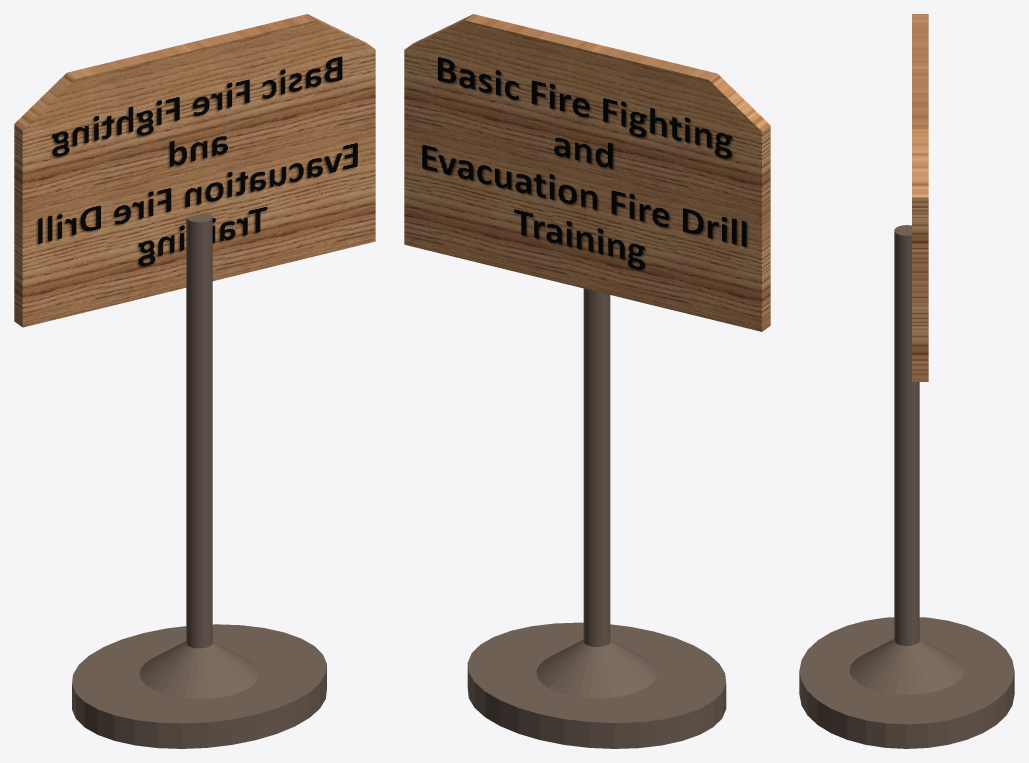
File: training.fbx
The picture shows the model from 3 angles, left to right: view 1: azimuth 30°, elevation 25°; view 2: azimuth 150°, elevation 25°; view 3: azimuth 270°, elevation 25°; orthographic projection. The views are drawn at different scales.
Parts seen in each view (by area): view 1: Plane, Cylinder; view 2: Plane, Cylinder; view 3: Cylinder, Plane.
Boxes of the visible parts, x1,y1,x2,y2 form: Plane: (14, 14, 375, 327); Cylinder: (72, 212, 326, 748); Plane: (404, 14, 770, 331); Cylinder: (467, 288, 726, 748); Cylinder: (799, 225, 1014, 748); Plane: (912, 14, 928, 381).
Size of the model in its own units: 30.17 by 52.94 by 16.53.
Materials: 2 (1 with a texture image).
